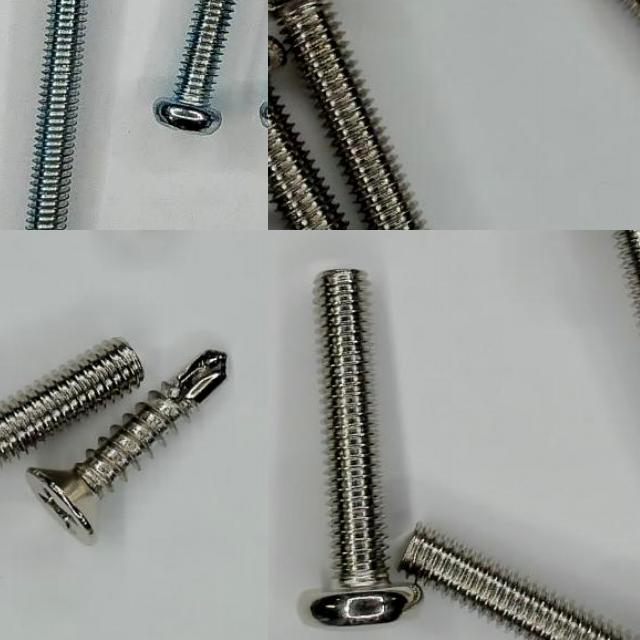Screw: (310, 269, 422, 627), (27, 350, 226, 543), (268, 0, 424, 230), (400, 527, 640, 640), (0, 338, 143, 461), (25, 0, 85, 230), (268, 77, 350, 230), (153, 0, 235, 134)
